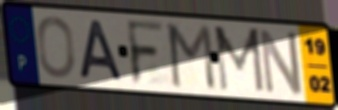A: (76, 18, 126, 84)
F: (124, 18, 167, 88)
M: (212, 25, 267, 96), (166, 22, 218, 93)
N: (257, 26, 305, 97)
O: (35, 14, 78, 80)
